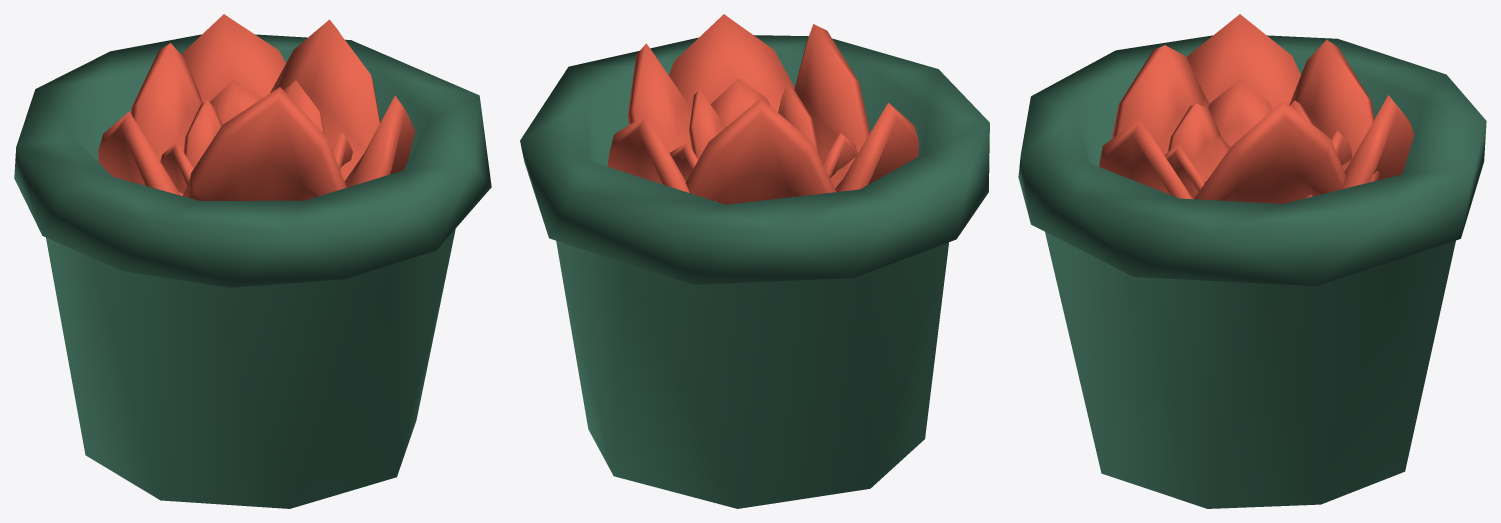
File: Succulent2.fbx
The picture shows the model from 3 angles, left to right: view 1: azimuth 30°, elevation 25°; view 2: azimuth 150°, elevation 25°; view 3: azimuth 270°, elevation 25°; orthographic projection.
Parts seen in each view (by area): view 1: Cylinder.033; view 2: Cylinder.033; view 3: Cylinder.033.
Part boxes in pixels (x1,y1,x2,y2): Cylinder.033: (14,14,491,508); Cylinder.033: (520,14,989,508); Cylinder.033: (1018,14,1486,508).
Size of the model in its own units: 34.08 by 30.5 by 33.42.
